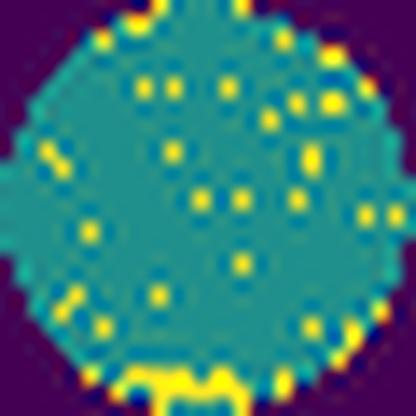Scratch: (106, 359, 252, 416)
